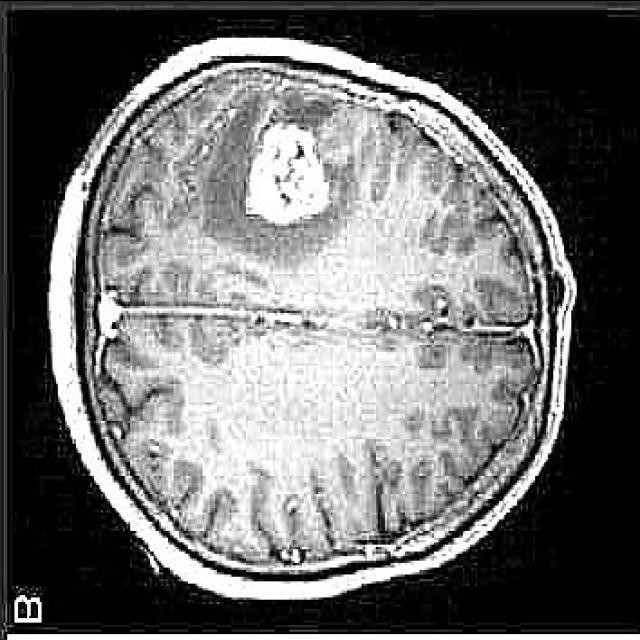tumor: (244, 115, 344, 225)
